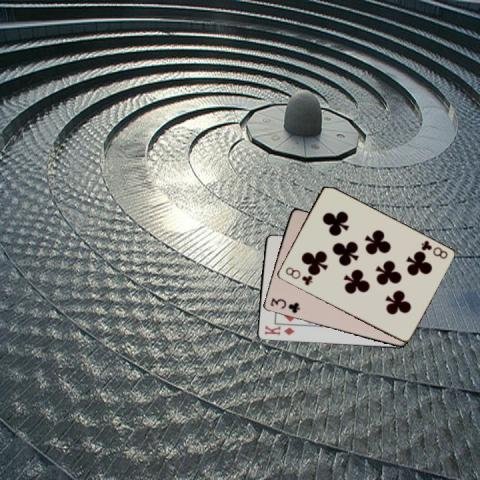3c: (268, 295, 301, 315)
8c: (418, 237, 449, 261), (282, 264, 313, 287)
Kd: (262, 322, 296, 336)
